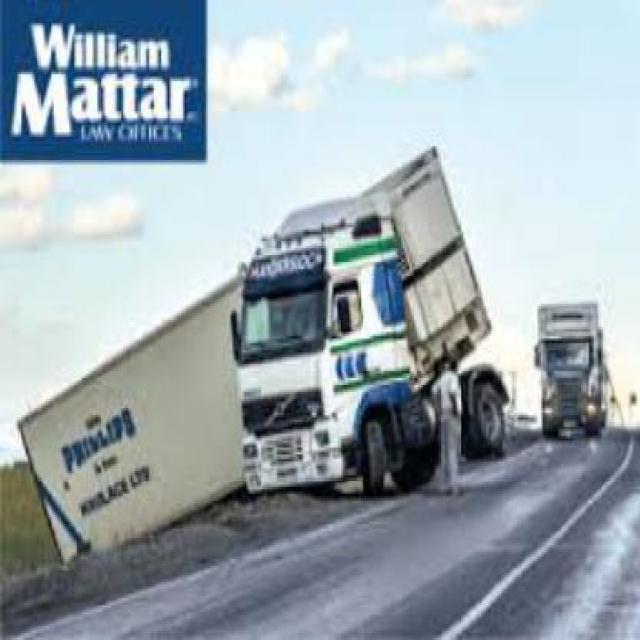accident: (15, 137, 517, 582)
